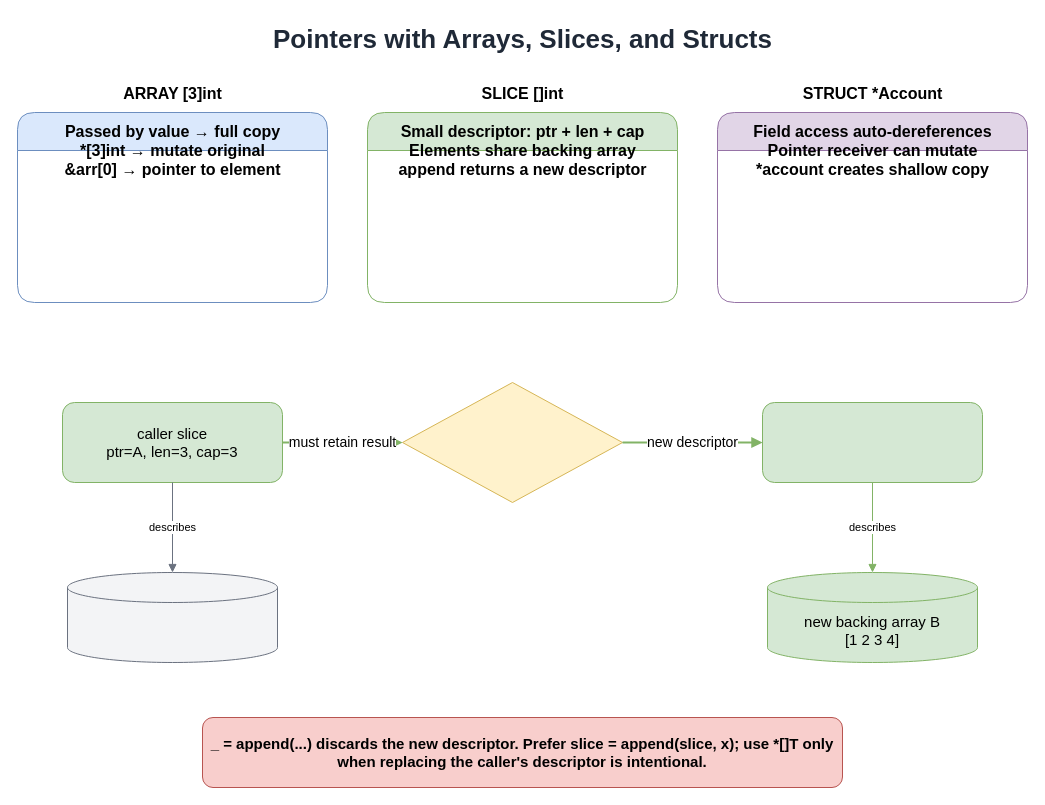
Image size: 1045x805. Some labels were removed from this diagram. Each missing label, with the box of its shape:
append(slice, 4) capacity exceeded: (402, 382, 622, 502)
old backing array A [1 2 3]: (66, 572, 278, 662)
returned slice ptr=B, len=4, cap≥4: (762, 402, 982, 482)
